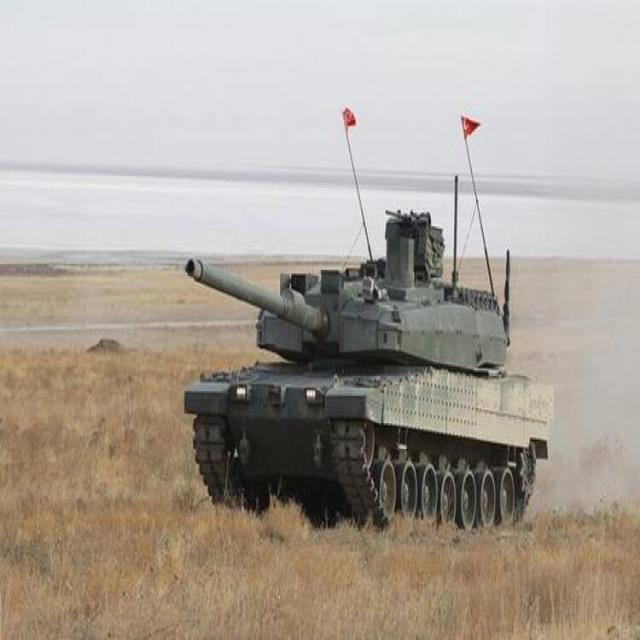Tanks: (185, 208, 555, 530)
